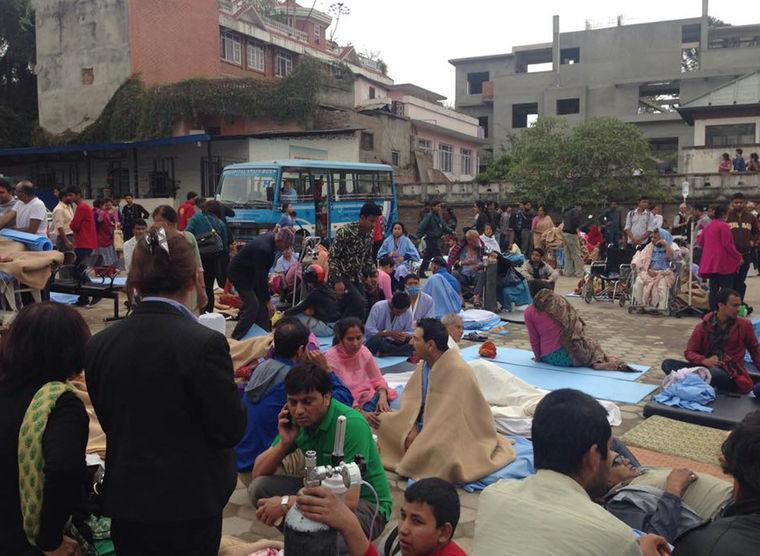affected: (25, 0, 491, 193)
